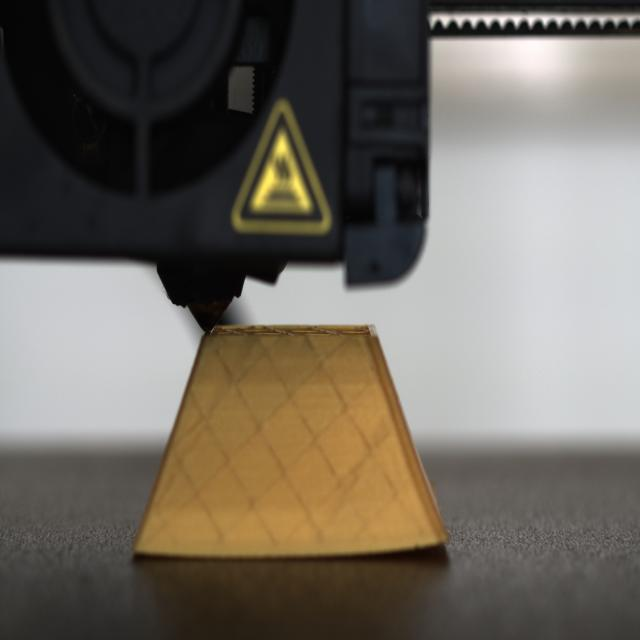Warping: (383, 533, 452, 563)
